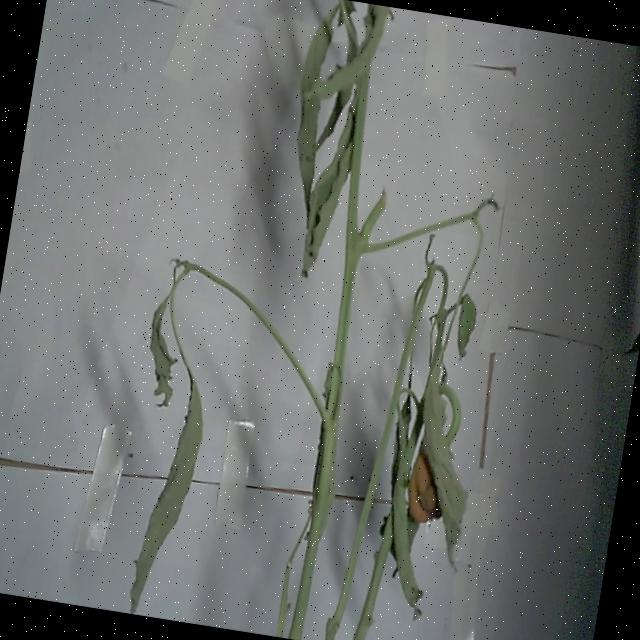Leaf: (129, 327, 222, 618), (397, 332, 498, 583), (279, 7, 348, 233), (138, 266, 193, 404)
